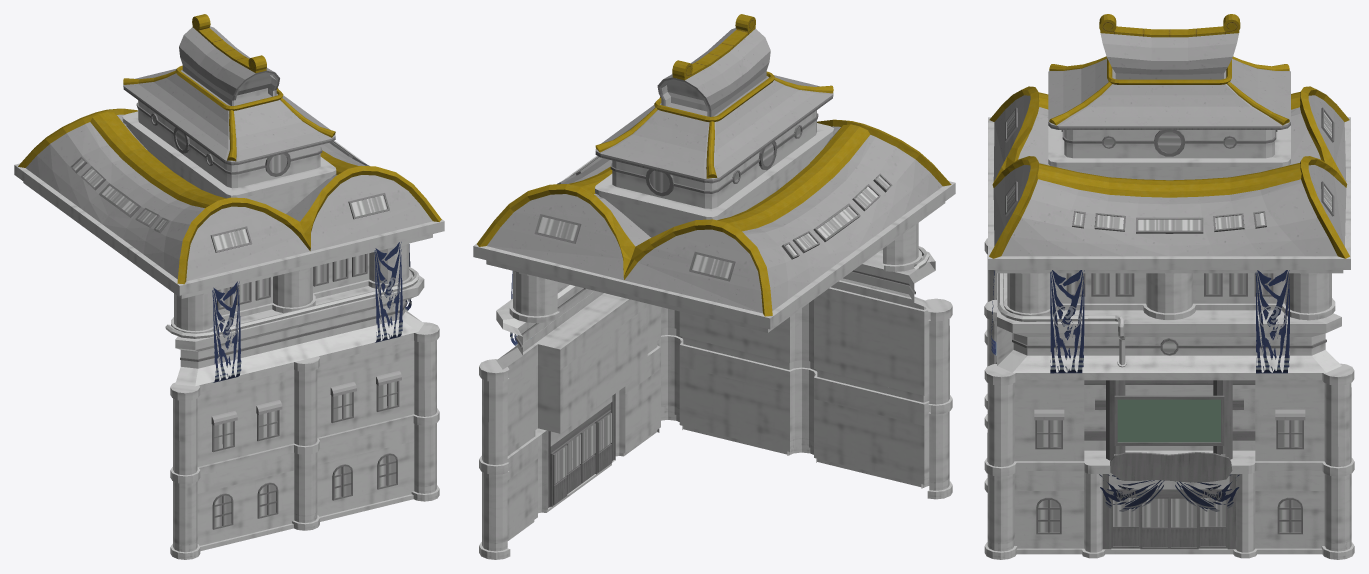
Rendered from REDUCTION_SM_ENV_KNVLLG_CommonBuilding_I_2.mo.fbx.
3 views of the same model, side by side, from view 1: azimuth 30°, elevation 25°; view 2: azimuth 150°, elevation 25°; view 3: azimuth 270°, elevation 25° (orthographic). The views are drawn at different scales.
Parts seen in each view (by area): view 1: REDUCTION_SM_ENV_KNVLLG_CommonBuilding_I_2.mo; view 2: REDUCTION_SM_ENV_KNVLLG_CommonBuilding_I_2.mo; view 3: REDUCTION_SM_ENV_KNVLLG_CommonBuilding_I_2.mo.
Part boxes in pixels (x1,y1,x2,y2): REDUCTION_SM_ENV_KNVLLG_CommonBuilding_I_2.mo: (14,14,444,559); REDUCTION_SM_ENV_KNVLLG_CommonBuilding_I_2.mo: (473,14,955,559); REDUCTION_SM_ENV_KNVLLG_CommonBuilding_I_2.mo: (984,14,1354,559).
Size of the model in its own units: 22.04 by 34.06 by 24.15.
